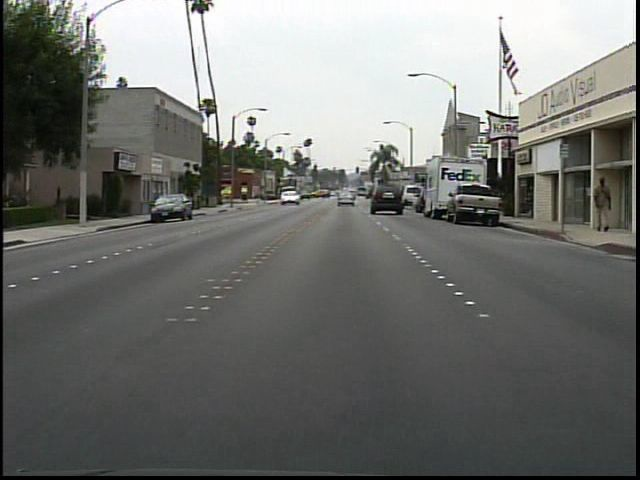person: (586, 174, 615, 235)
